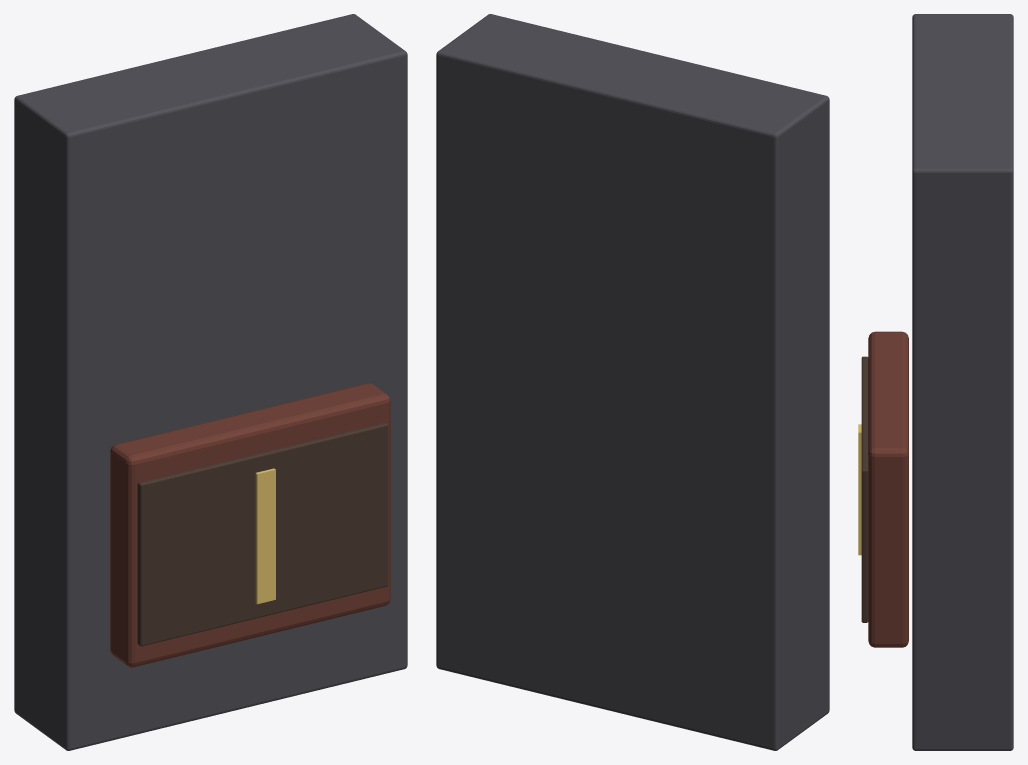
The model's file is crypt_niche_coffin_slot.glb.
3 views of the same model, side by side, from view 1: azimuth 30°, elevation 25°; view 2: azimuth 150°, elevation 25°; view 3: azimuth 270°, elevation 25° (orthographic). The views are drawn at different scales.
Parts seen in each view (by area): view 1: GD_crypt_niche_coffin_slot__m0, GD_crypt_niche_coffin_slot__m3, GD_crypt_niche_coffin_slot__m2, GD_crypt_niche_coffin_slot__m4; view 2: GD_crypt_niche_coffin_slot__m0; view 3: GD_crypt_niche_coffin_slot__m0, GD_crypt_niche_coffin_slot__m2, GD_crypt_niche_coffin_slot__m3, GD_crypt_niche_coffin_slot__m4.
Part boxes in pixels (x1,y1,x2,y2): GD_crypt_niche_coffin_slot__m0: (14, 14, 407, 750); GD_crypt_niche_coffin_slot__m3: (137, 422, 388, 646); GD_crypt_niche_coffin_slot__m2: (110, 383, 390, 667); GD_crypt_niche_coffin_slot__m4: (255, 468, 275, 604); GD_crypt_niche_coffin_slot__m0: (436, 14, 829, 750); GD_crypt_niche_coffin_slot__m0: (912, 14, 1013, 750); GD_crypt_niche_coffin_slot__m2: (868, 331, 908, 647); GD_crypt_niche_coffin_slot__m3: (861, 356, 868, 622); GD_crypt_niche_coffin_slot__m4: (858, 424, 861, 555).
Bounding box in the file's own units: 1.1 × 1.9 × 0.46.
